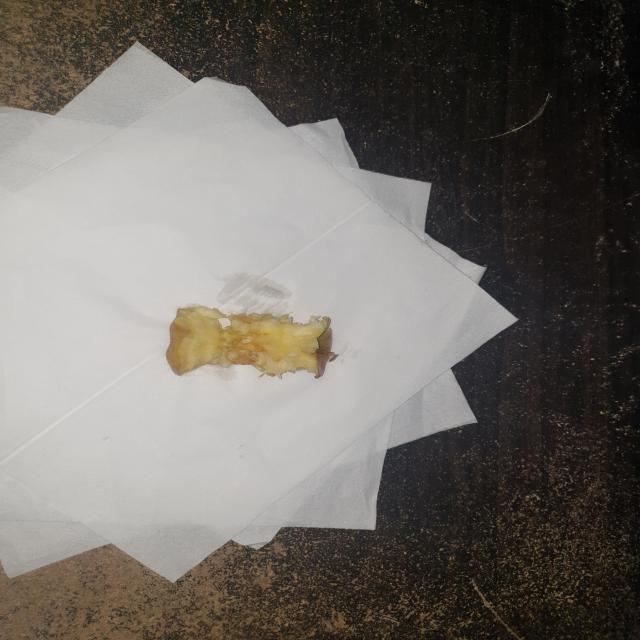apple: (156, 302, 358, 384)
